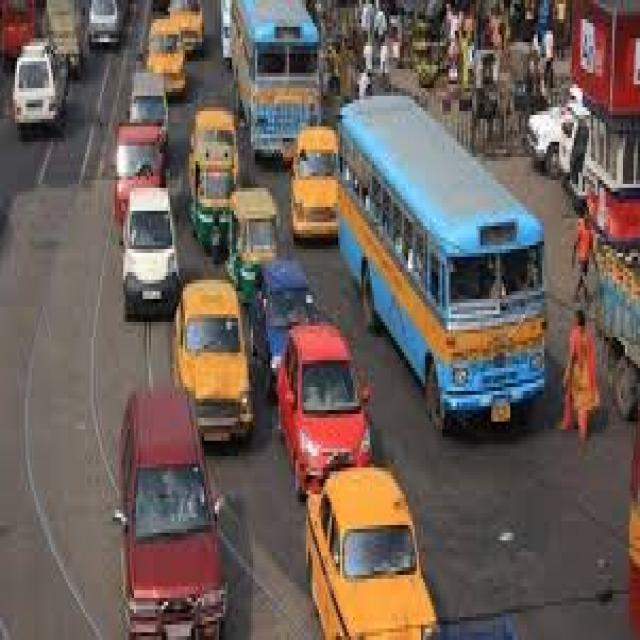BUS: (325, 66, 557, 448)
